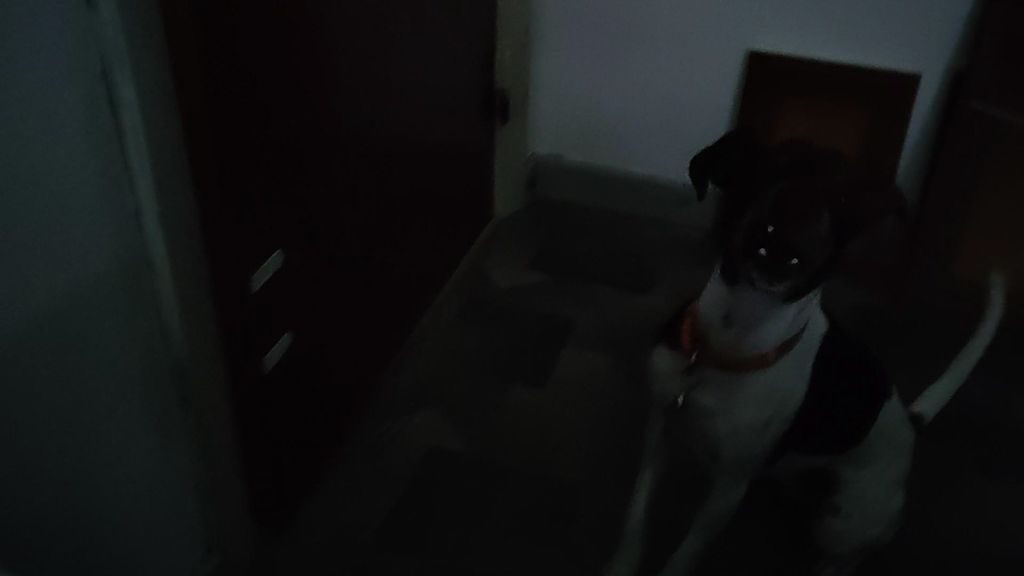Dog: (585, 97, 1024, 576)
